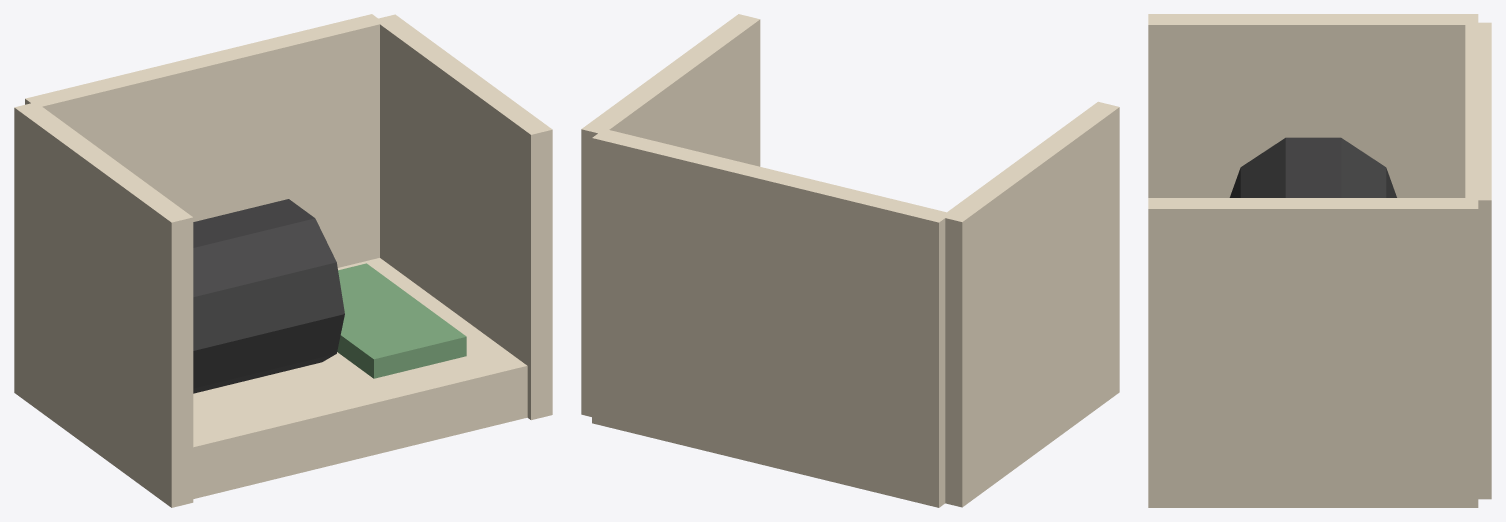
3 renders of one model, left to right at view 1: azimuth 30°, elevation 25°; view 2: azimuth 150°, elevation 25°; view 3: azimuth 270°, elevation 25°, orthographic. The views are drawn at different scales.
Parts seen in each view (by area): view 1: Side, Back, Side.001, Base, Motor, Circuit board; view 2: Back, Side, Side.001; view 3: Side.001, Side, Back, Motor.
Boxes of the visible parts, left/top/right/bottom form: Side: left=14, top=103, right=193, bottom=507; Back: left=25, top=14, right=384, bottom=267; Side.001: left=378, top=14, right=552, bottom=420; Base: left=193, top=258, right=527, bottom=498; Motor: left=193, top=199, right=344, bottom=393; Circuit board: left=337, top=263, right=466, bottom=378; Back: left=592, top=129, right=951, bottom=507; Side: left=945, top=101, right=1119, bottom=507; Side.001: left=581, top=14, right=760, bottom=416; Side.001: left=1148, top=198, right=1478, bottom=507; Side: left=1148, top=14, right=1478, bottom=197; Back: left=1465, top=22, right=1491, bottom=499; Motor: left=1229, top=137, right=1396, bottom=197.
Size of the model in its own units: 61.5 by 44 by 45.75.
